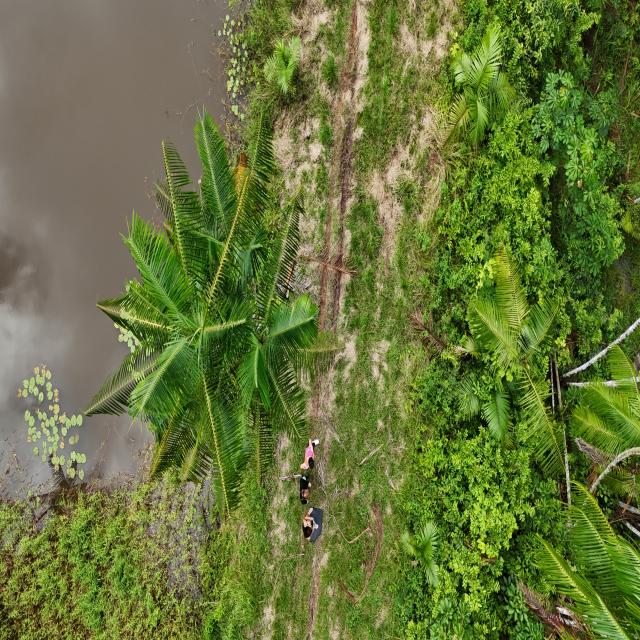vegetation: (84, 98, 346, 526)
